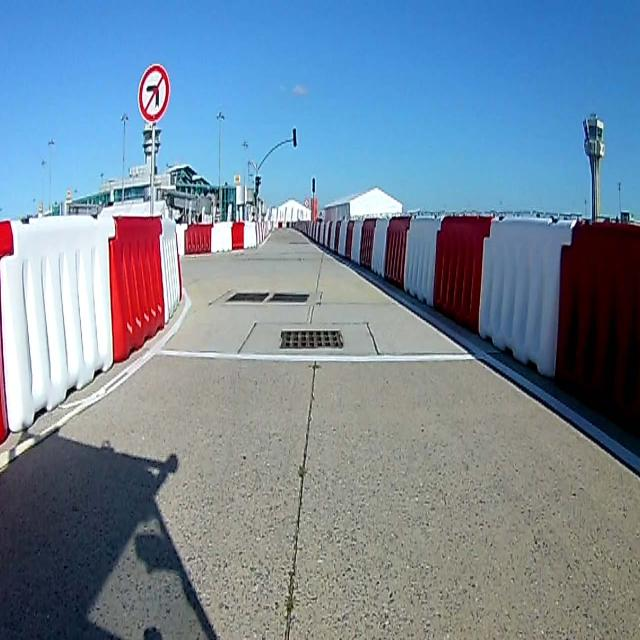soladonulmez: (138, 60, 170, 128)
